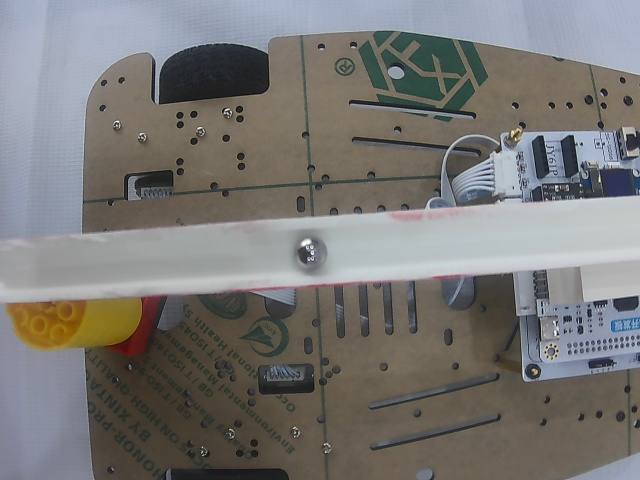steelball: (295, 236, 326, 269)
